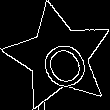O_NW: (27, 24, 90, 90)
